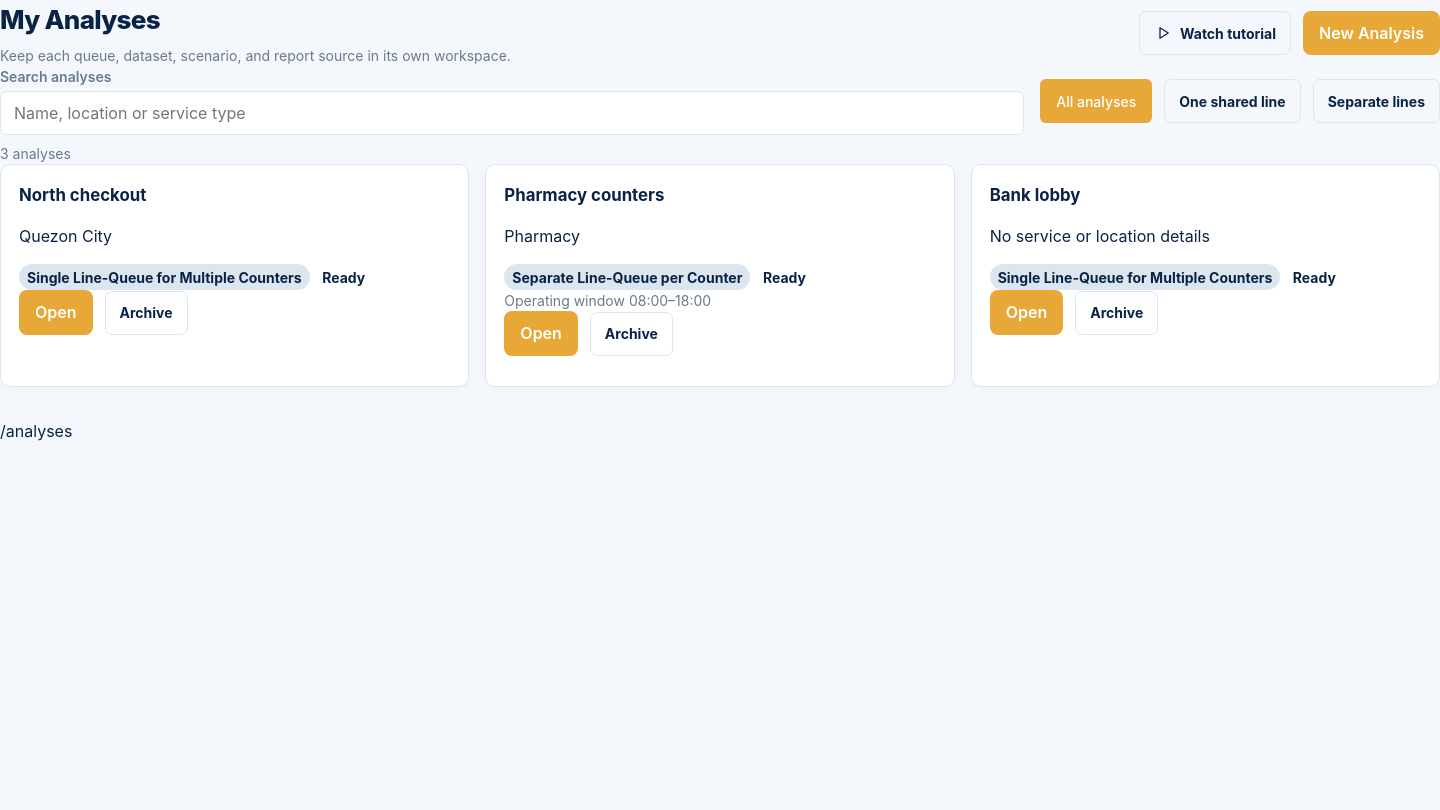
Test: Archive confirmation (spec §7.4, §10) › asks first, focuses Cancel, and cancels with Escape without archiving
Click the button "Archive" below "No service or location details": (1117, 313) [1075, 291, 1158, 335]
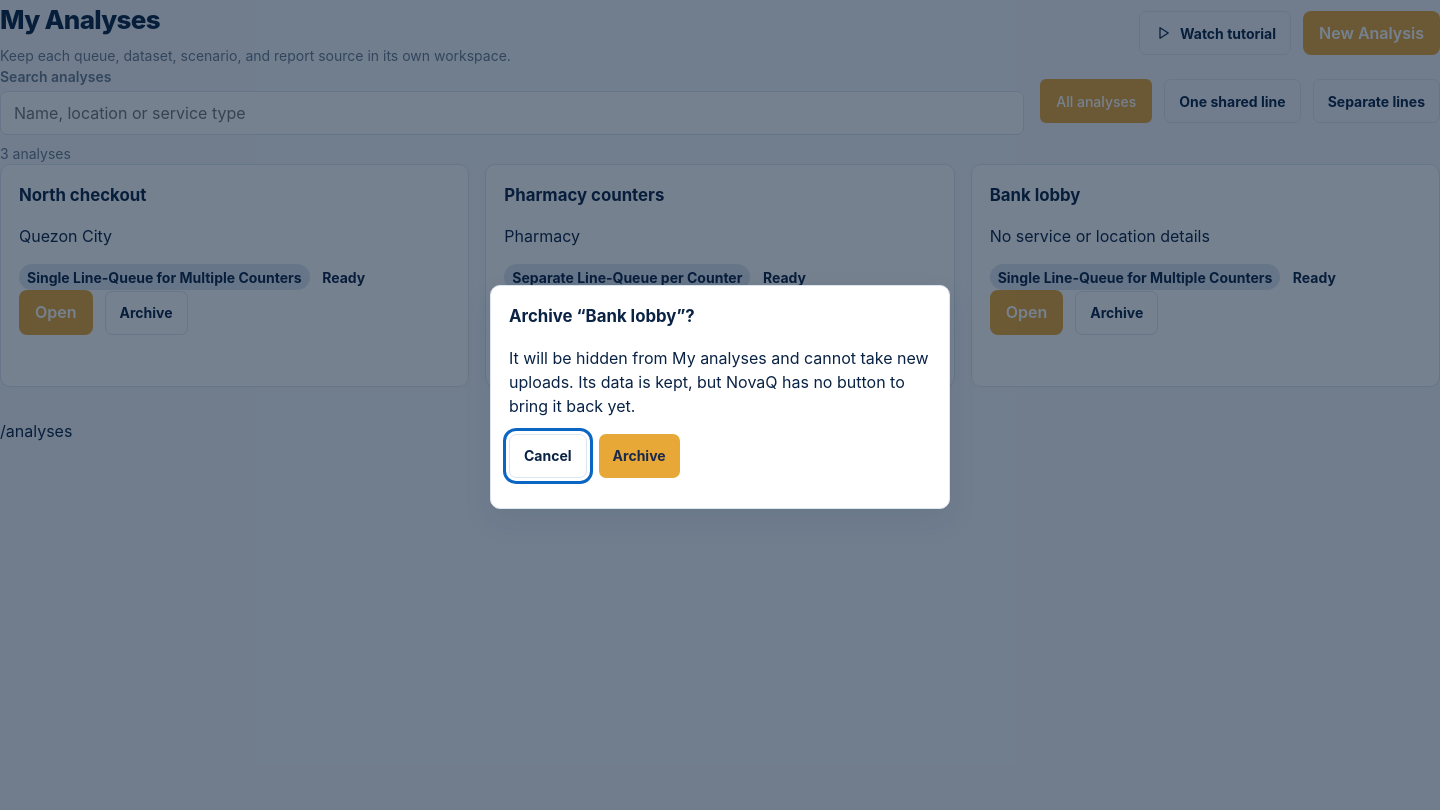
Press Escape
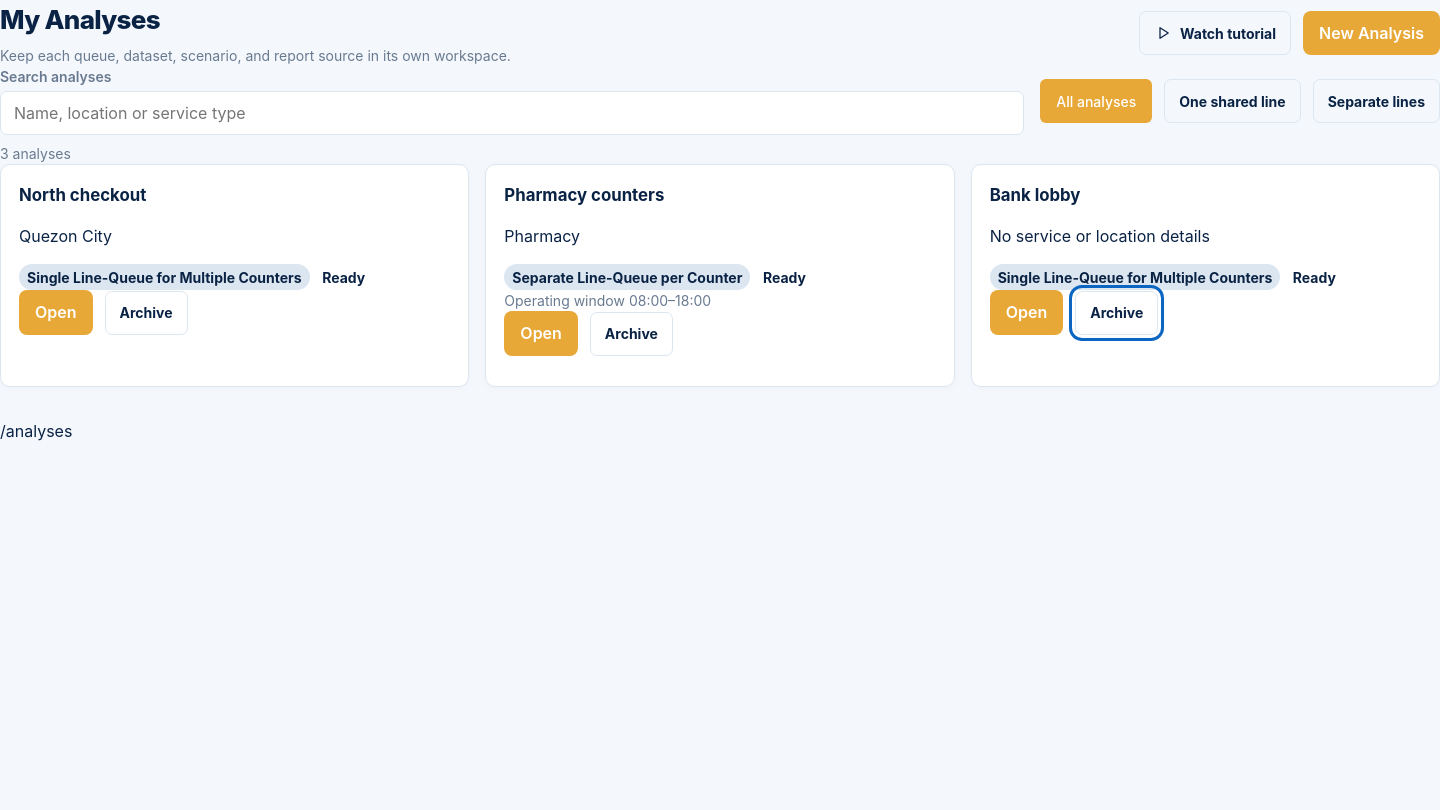
Result: the dialog is gone
